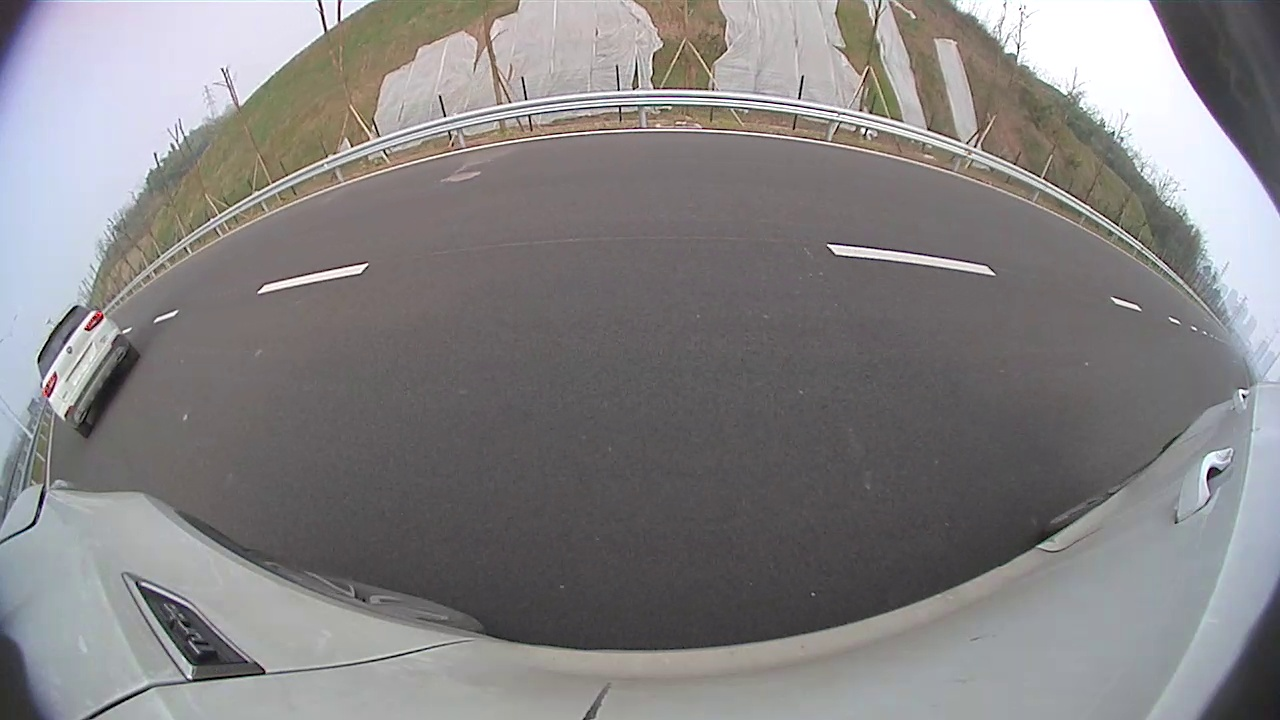car: (36, 302, 138, 437)
